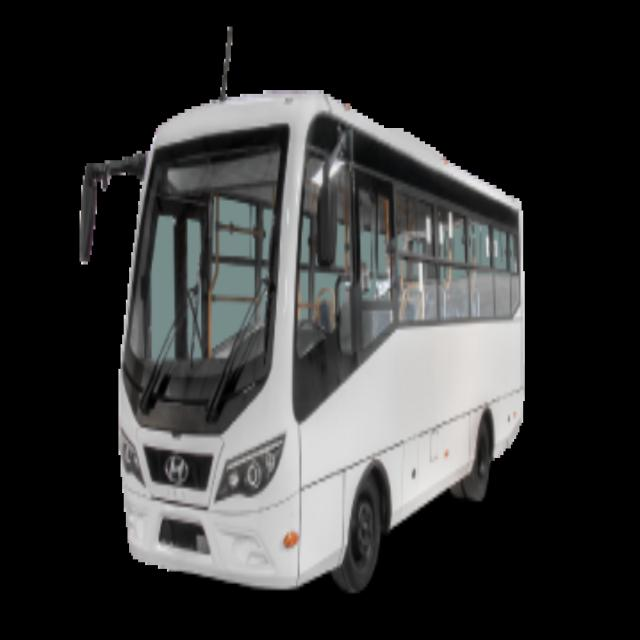BUS: (90, 42, 520, 604)
